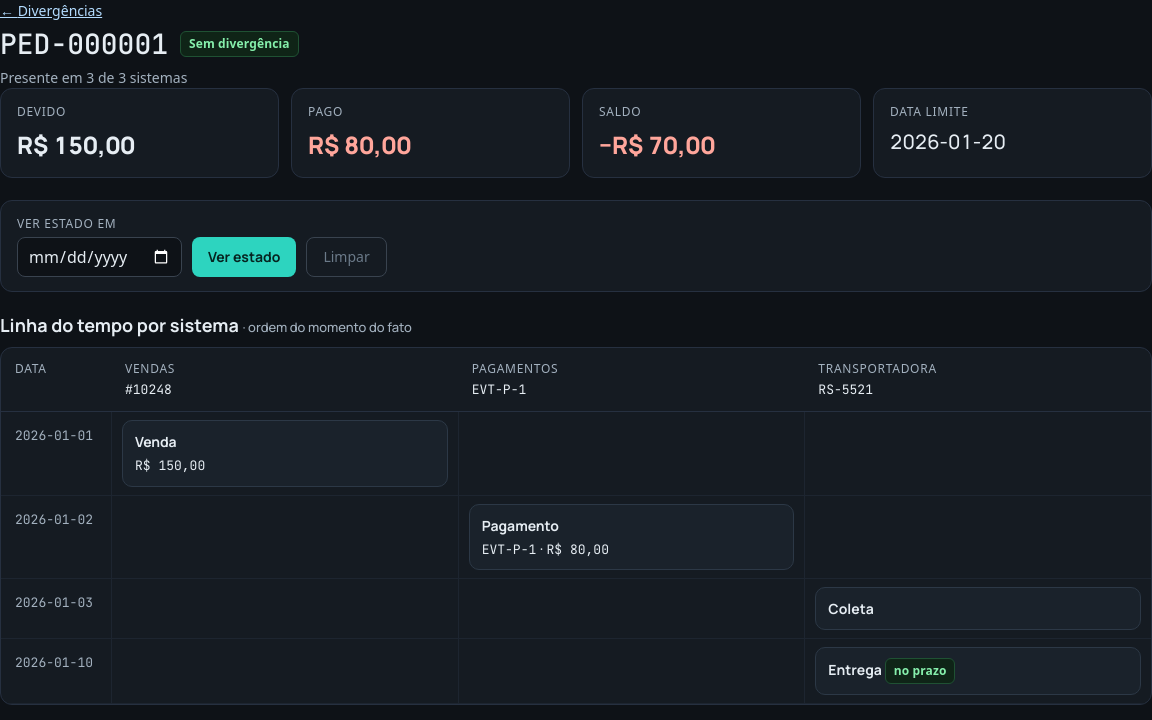
Test case: Estado do pedido em uma data — frase › data entre coleta e entrega: frase bate com o estado esperado (venda + pagamento parcial + coletado, ainda não em transporte)
expect the heading named "Pedido PED-000001" is shown: met, box [0,27,168,61]
Type "2026-01-05" into the date field labelled "Ver estado em" at (100, 257), box [17,237,182,277]
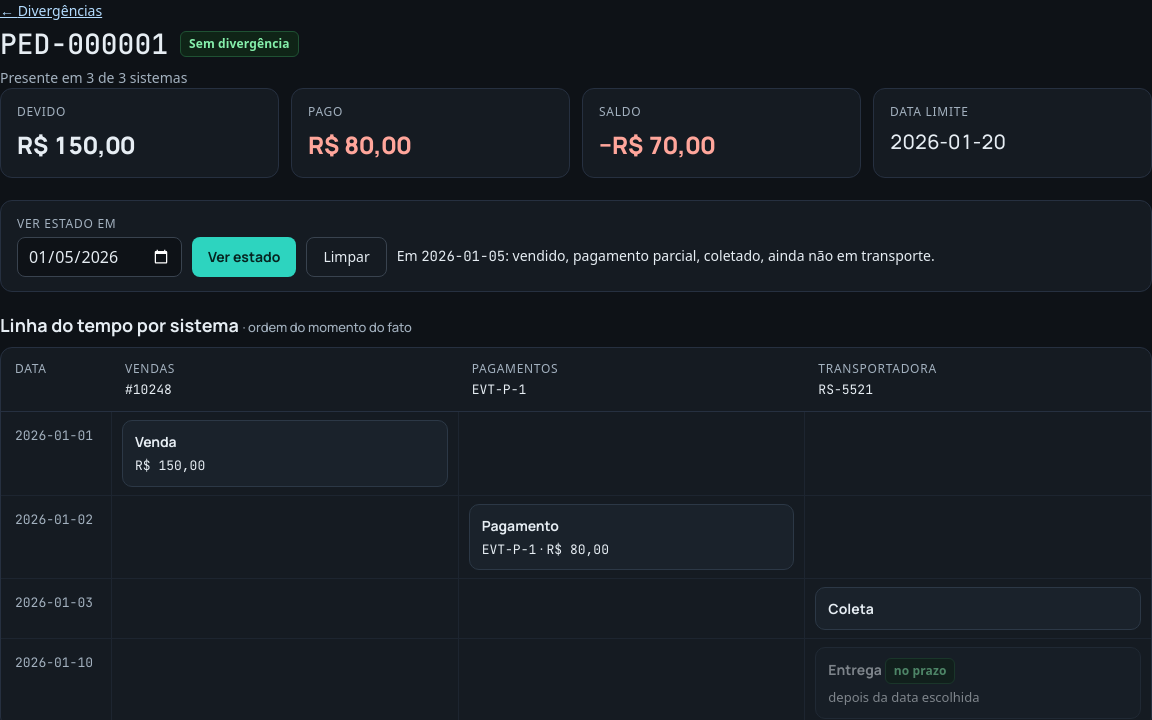
expect the element with class "seletor-data__resultado" reads "Em 2026-01-05: vendido, pagamento parcial, coletado, ainda não em transporte.": met, box [397,246,935,265]
expect the text with class "mono" reads "2026-01-05": met, box [421,247,505,265]
